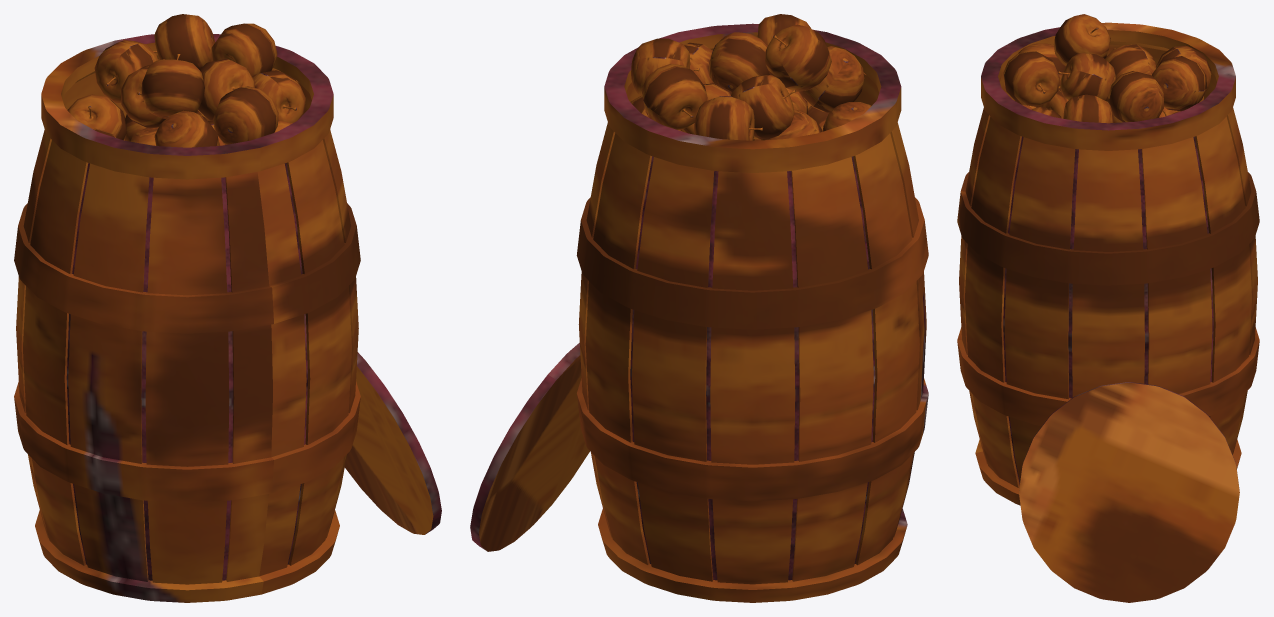
Rendered from fruit barrel_1.fbx.
3 renders of one model, left to right at view 1: azimuth 30°, elevation 25°; view 2: azimuth 150°, elevation 25°; view 3: azimuth 270°, elevation 25°, orthographic. The views are drawn at different scales.
Visible parts, largest first — view 1: Circle.001, Circle.002, Plane.1015, Plane.1007, Plane.1008, Plane.1017, Plane.1006, Plane.1013, Plane.1014, Plane.1011, Plane.998, Plane.1012; view 2: Circle.001, Circle.002, Plane.1015, Plane.1008, Plane.1014, Plane.1012, Plane.1013, Plane.1006, Plane.1017, Plane.1007, Plane.1002, Plane.1011 (+1 smaller); view 3: Circle.001, Circle.002, Plane.1007, Plane.1017, Plane.1008, Plane.1014, Plane.1015, Plane.1011, Plane.1012, Plane.1006, Plane.1013.
Boxes of the visible parts, x1=… form: Circle.001: x1=14, y1=34, x2=360, y2=602; Circle.002: x1=344, y1=352, x2=441, y2=534; Plane.1015: x1=141, y1=54, x2=204, y2=118; Plane.1007: x1=212, y1=86, x2=278, y2=144; Plane.1008: x1=153, y1=14, x2=215, y2=69; Plane.1017: x1=211, y1=23, x2=277, y2=76; Plane.1006: x1=94, y1=40, x2=157, y2=102; Plane.1013: x1=154, y1=110, x2=219, y2=147; Plane.1014: x1=198, y1=58, x2=254, y2=120; Plane.1011: x1=252, y1=70, x2=305, y2=122; Plane.998: x1=67, y1=94, x2=126, y2=140; Plane.1012: x1=121, y1=65, x2=165, y2=127; Circle.001: x1=576, y1=23, x2=928, y2=602; Circle.002: x1=470, y1=343, x2=589, y2=551; Plane.1015: x1=765, y1=24, x2=831, y2=91; Plane.1008: x1=641, y1=63, x2=707, y2=129; Plane.1014: x1=709, y1=32, x2=769, y2=91; Plane.1012: x1=731, y1=75, x2=795, y2=139; Plane.1013: x1=801, y1=46, x2=864, y2=112; Plane.1006: x1=694, y1=96, x2=762, y2=140; Plane.1017: x1=631, y1=38, x2=699, y2=95; Plane.1007: x1=757, y1=14, x2=811, y2=45; Plane.1002: x1=823, y1=102, x2=871, y2=131; Plane.1011: x1=684, y1=42, x2=713, y2=84; Circle.001: x1=957, y1=22, x2=1259, y2=505; Circle.002: x1=1019, y1=382, x2=1239, y2=602; Plane.1007: x1=1003, y1=51, x2=1060, y2=106; Plane.1017: x1=1108, y1=71, x2=1163, y2=122; Plane.1008: x1=1152, y1=56, x2=1207, y2=111; Plane.1014: x1=1058, y1=53, x2=1115, y2=101; Plane.1015: x1=1053, y1=14, x2=1110, y2=66; Plane.1011: x1=1063, y1=94, x2=1113, y2=123; Plane.1012: x1=1105, y1=44, x2=1156, y2=79; Plane.1006: x1=1156, y1=45, x2=1211, y2=90; Plane.1013: x1=1018, y1=43, x2=1065, y2=85.
Bounding box in the file's own units: 45.26 × 62.06 × 35.65.
